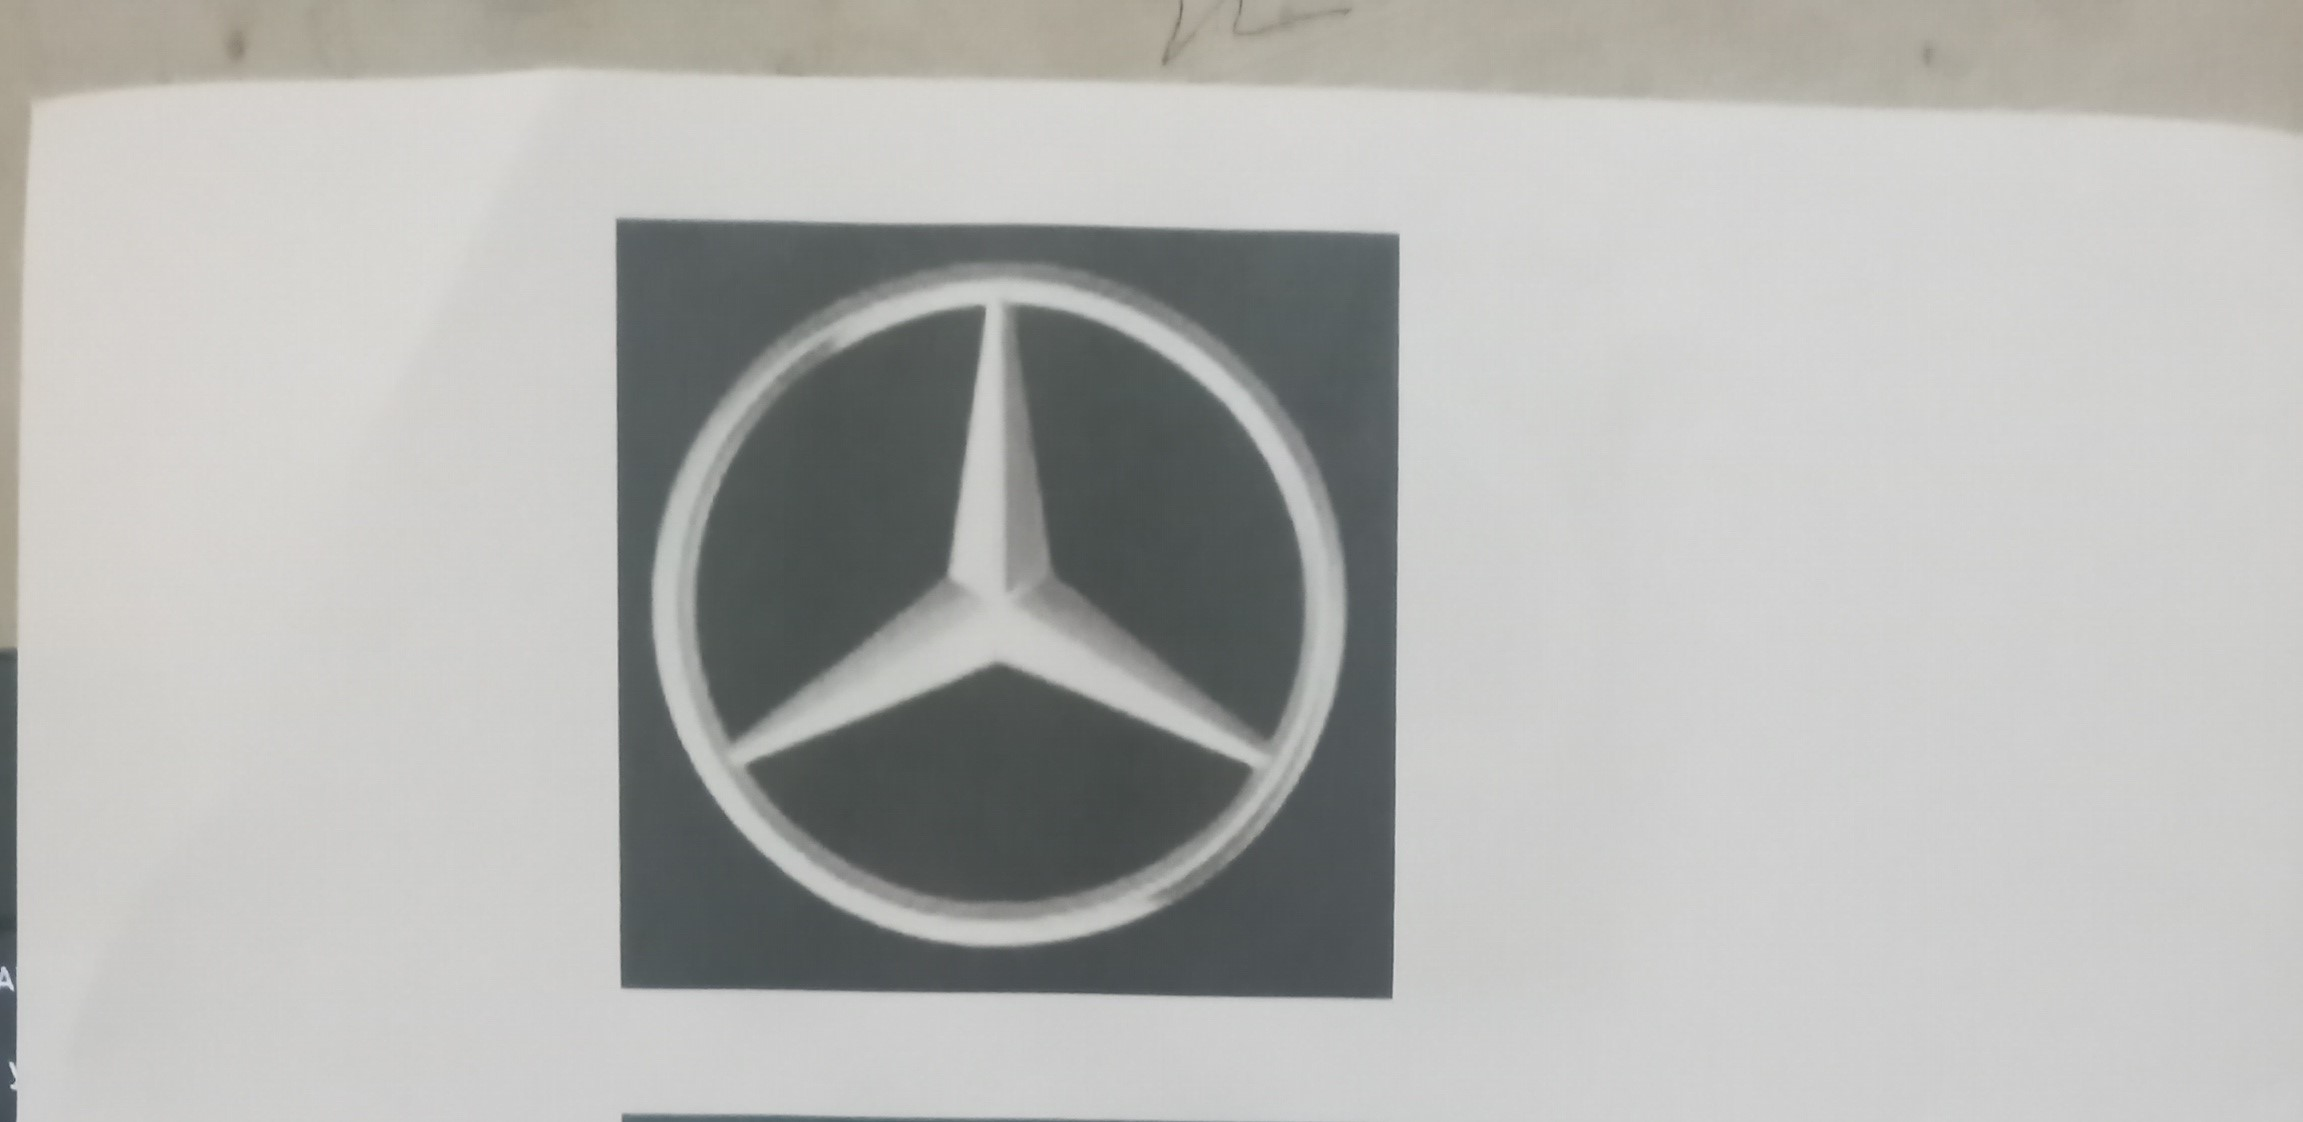Mercedes: (630, 244, 1373, 972)
